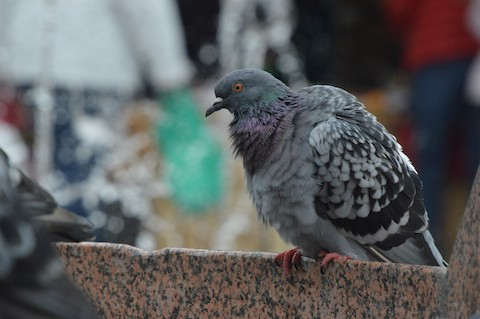pigeon: (202, 66, 453, 278)
